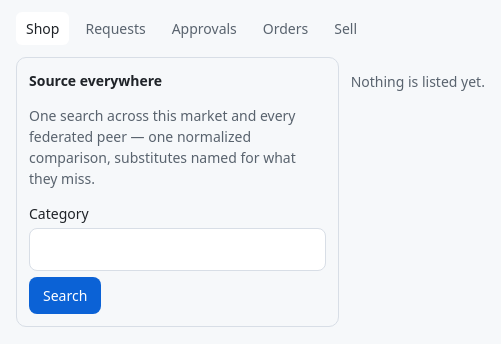
Test: Market: orders offer the next lawful step › names acceptance as the capture moment
The width and height of the screenshot is (501, 344).
Click the button "Orders" at (286, 28), box [253,12,318,45]
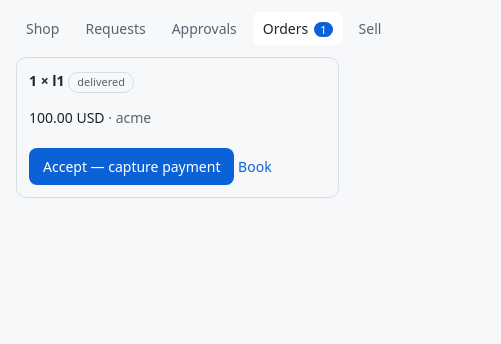
Expected: the button "Accept — capture payment" is shown, [29,148,234,184]
